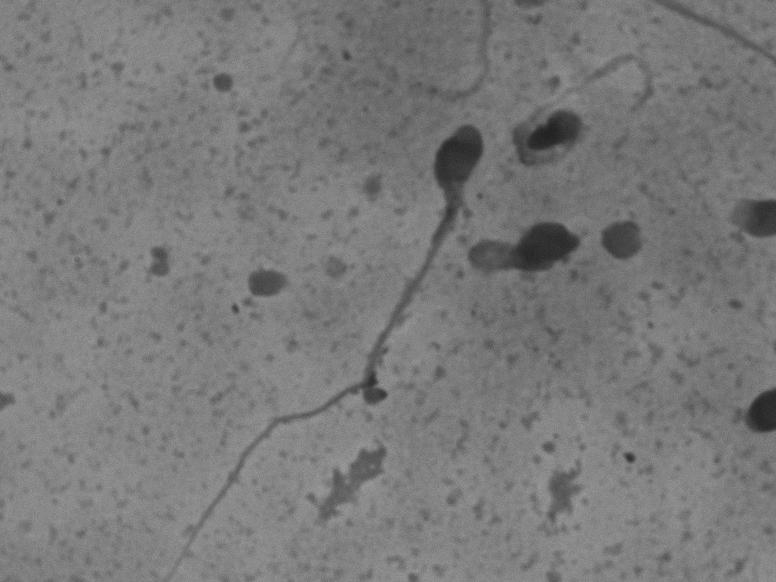Abnormal: (157, 110, 494, 569), (465, 214, 600, 327)
